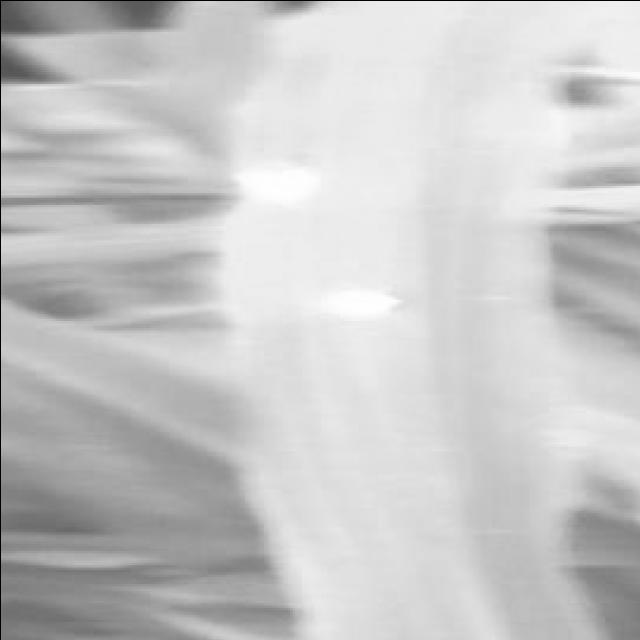Leaf_Blast: (273, 261, 437, 353), (198, 150, 322, 226)
